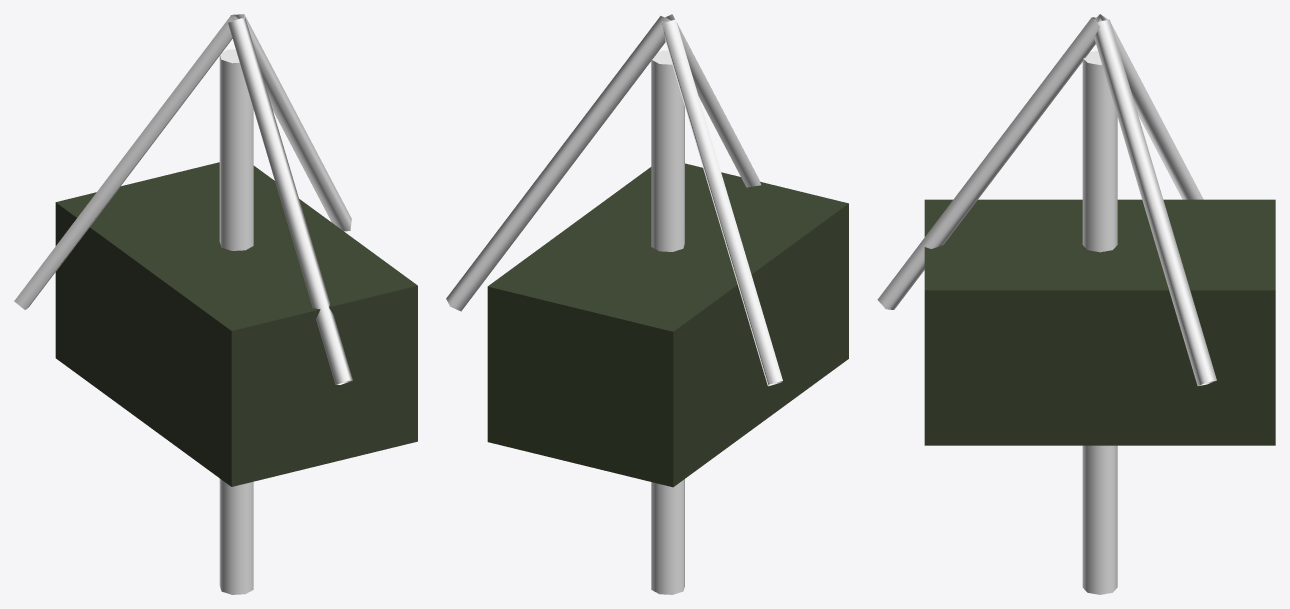
File: prop_tk04_studio_camera.obj
The picture shows the model from 3 angles, left to right: view 1: azimuth 30°, elevation 25°; view 2: azimuth 150°, elevation 25°; view 3: azimuth 270°, elevation 25°; orthographic projection.
Parts seen in each view (by area): view 1: prop_tk04_studio_camera_DA_0004, prop_tk04_studio_camera_DA_0000, prop_tk04_studio_camera_DA_0001, prop_tk04_studio_camera_DA_0003, prop_tk04_studio_camera_DA_0002; view 2: prop_tk04_studio_camera_DA_0004, prop_tk04_studio_camera_DA_0000, prop_tk04_studio_camera_DA_0002, prop_tk04_studio_camera_DA_0003, prop_tk04_studio_camera_DA_0001; view 3: prop_tk04_studio_camera_DA_0004, prop_tk04_studio_camera_DA_0000, prop_tk04_studio_camera_DA_0002, prop_tk04_studio_camera_DA_0001, prop_tk04_studio_camera_DA_0003.
Boxes of the visible parts, bbox=[...] form: prop_tk04_studio_camera_DA_0004: bbox=[55, 162, 417, 486]; prop_tk04_studio_camera_DA_0000: bbox=[219, 49, 253, 594]; prop_tk04_studio_camera_DA_0001: bbox=[228, 18, 352, 384]; prop_tk04_studio_camera_DA_0003: bbox=[14, 14, 238, 309]; prop_tk04_studio_camera_DA_0002: bbox=[230, 14, 351, 231]; prop_tk04_studio_camera_DA_0004: bbox=[487, 163, 848, 487]; prop_tk04_studio_camera_DA_0000: bbox=[651, 50, 684, 594]; prop_tk04_studio_camera_DA_0002: bbox=[446, 16, 670, 311]; prop_tk04_studio_camera_DA_0003: bbox=[662, 19, 782, 386]; prop_tk04_studio_camera_DA_0001: bbox=[663, 14, 760, 187]; prop_tk04_studio_camera_DA_0004: bbox=[924, 199, 1275, 445]; prop_tk04_studio_camera_DA_0000: bbox=[1082, 50, 1117, 594]; prop_tk04_studio_camera_DA_0002: bbox=[1094, 19, 1216, 385]; prop_tk04_studio_camera_DA_0001: bbox=[877, 17, 1102, 309]; prop_tk04_studio_camera_DA_0003: bbox=[1094, 14, 1203, 199].
Bounding box in the file's own units: 0.9973 × 1.61 × 1.02.
